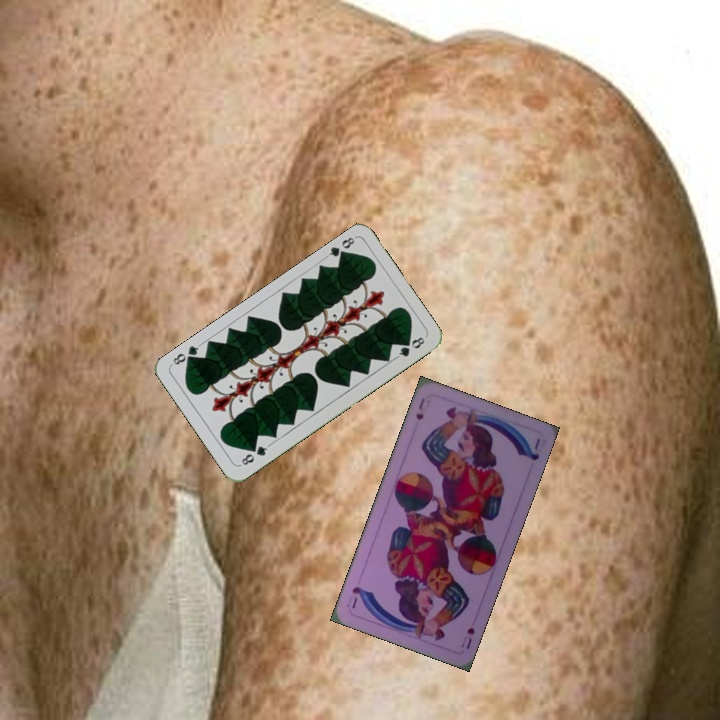G8: (322, 233, 358, 262), (236, 441, 272, 468)
SU: (457, 623, 477, 652), (412, 394, 430, 423)
